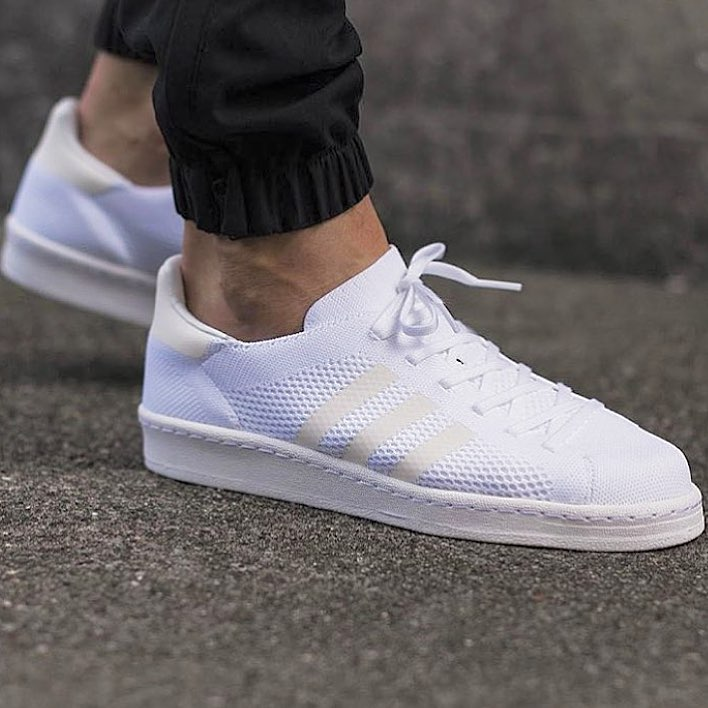sneaker: (109, 171, 703, 572), (2, 43, 247, 335)
